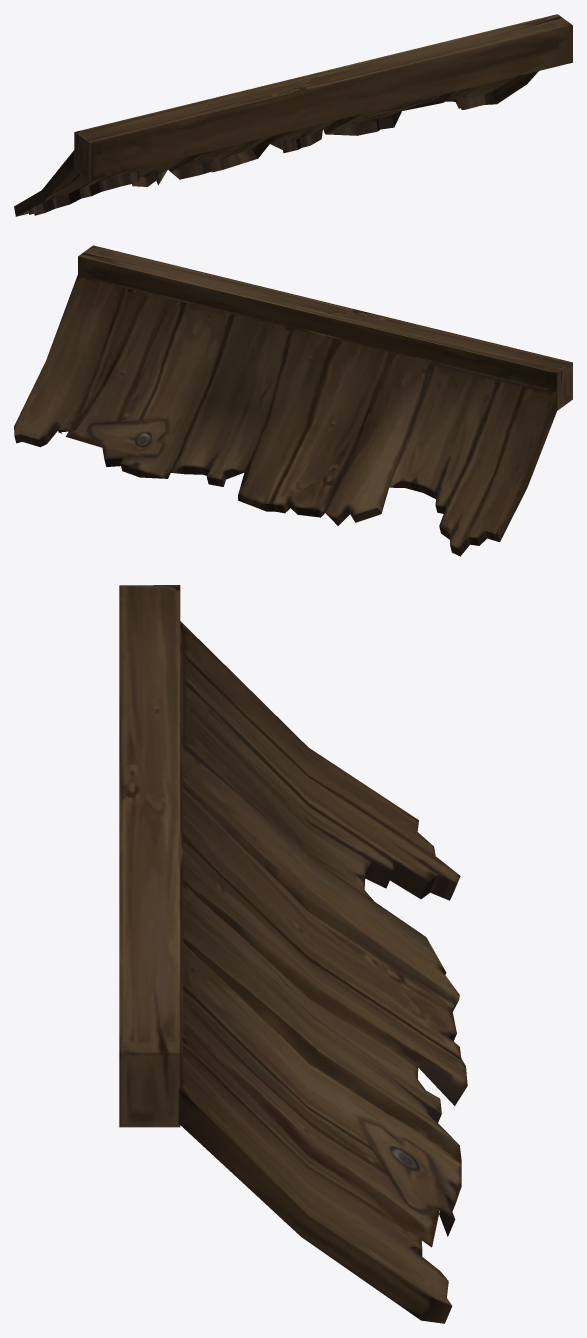
File: mf_eave021.FBX
3 renders of one model, top to bottom at view 1: azimuth 30°, elevation 25°; view 2: azimuth 150°, elevation 25°; view 3: azimuth 270°, elevation 25°, orthographic. The views are drawn at different scales.
Visible parts, largest first — view 1: mf_eave021; view 2: mf_eave021; view 3: mf_eave021.
Boxes of the visible parts, bbox=[...] form: mf_eave021: bbox=[14, 14, 572, 216]; mf_eave021: bbox=[14, 245, 572, 556]; mf_eave021: bbox=[119, 585, 467, 1323].
Bounding box in the file's own units: 2 × 0.5618 × 0.6286.
Materials: 1 (1 with a texture image).
